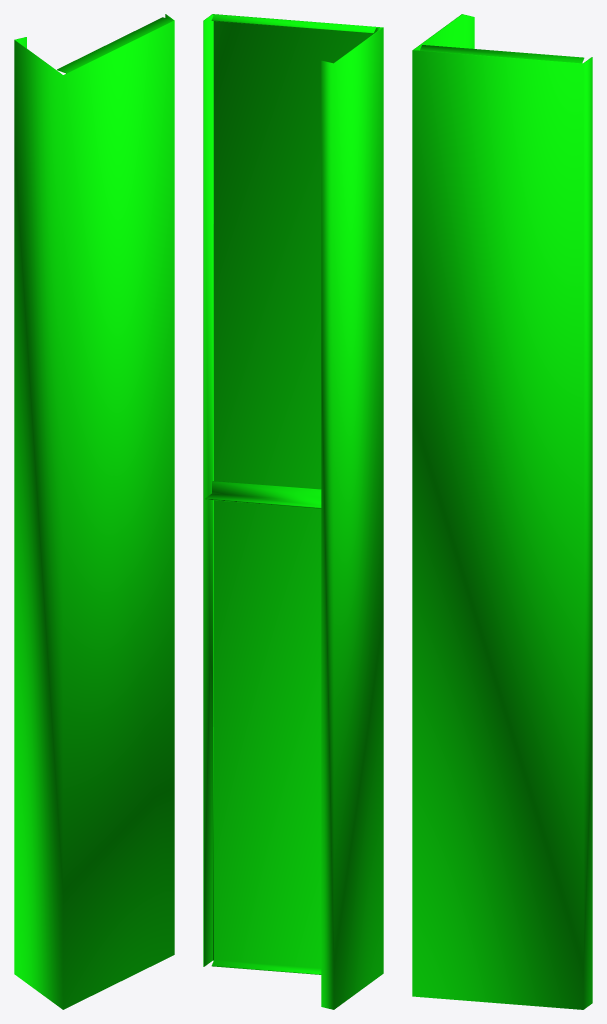
File: SLI-13.fbx
The picture shows the model from 3 angles, left to right: view 1: azimuth 30°, elevation 25°; view 2: azimuth 150°, elevation 25°; view 3: azimuth 330°, elevation 25°; orthographic projection.
Parts seen in each view (by area): view 1: polySurface12; view 2: polySurface12; view 3: polySurface12.
Part boxes in pixels (x1=…): polySurface12: x1=14, y1=14, x2=174, y2=1009; polySurface12: x1=203, y1=14, x2=383, y2=1009; polySurface12: x1=412, y1=14, x2=592, y2=1009.
Size of the model in its own units: 22.62 by 144 by 13.69.
